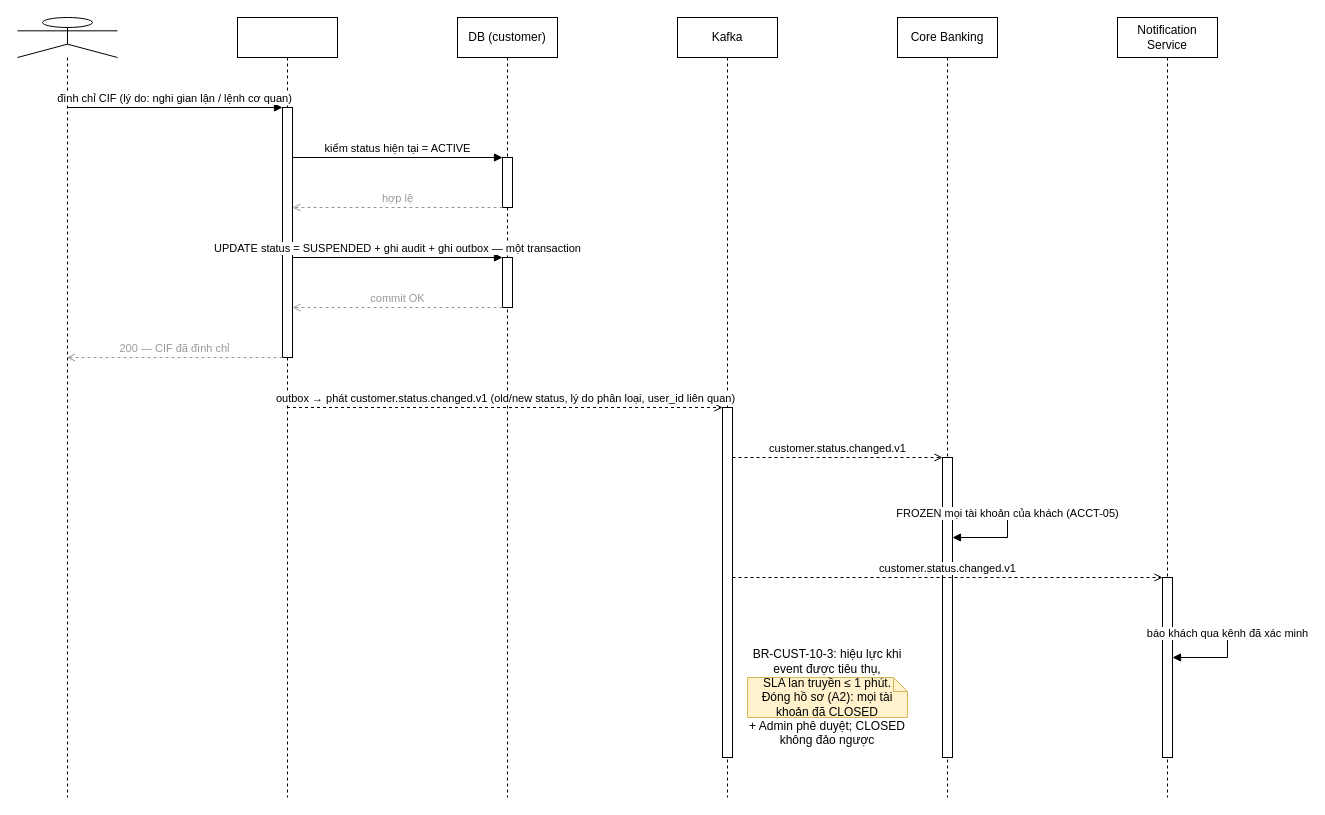
Image size: 1325x815. Some labels were removed from this diagram. The shapes that lost their labels are listed below. From the top down, each one's box as (x1, y1, x2, y2) in pixels, then its label:
(16, 16, 118, 798): CSO
(236, 16, 338, 798): Customer Service
